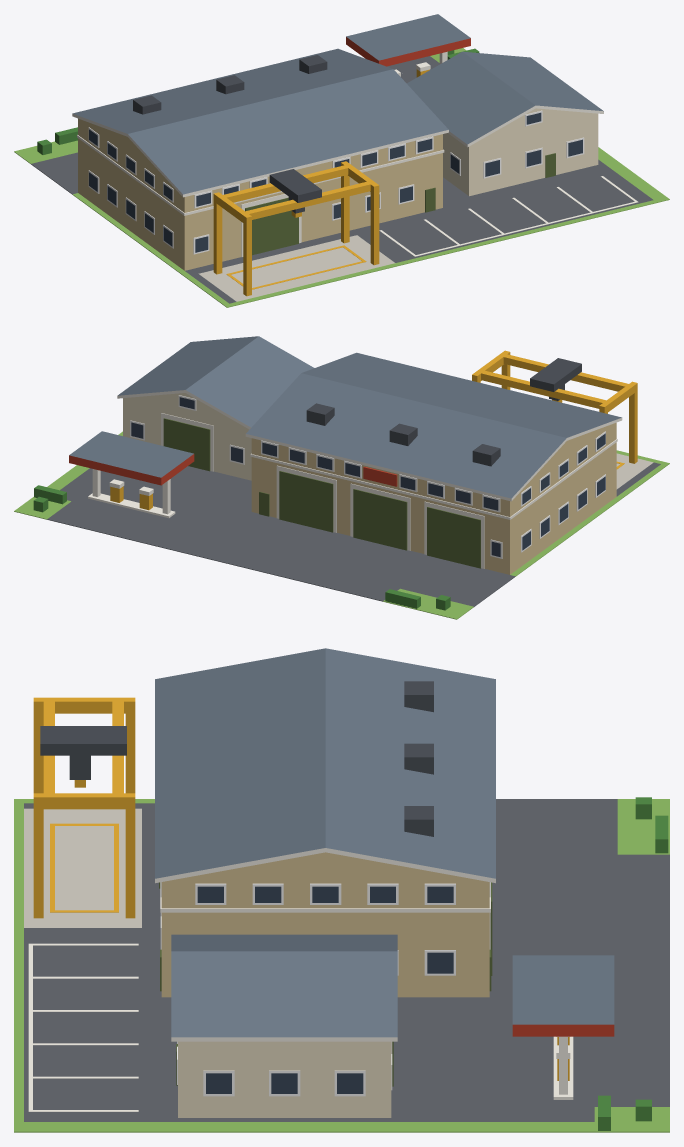
The model's file is vehicledepot.glb.
3 renders of one model, top to bottom at view 1: azimuth 30°, elevation 25°; view 2: azimuth 150°, elevation 25°; view 3: azimuth 270°, elevation 25°, orthographic. The views are drawn at different scales.
Parts seen in each view (by area): view 1: roof (×3), wall (×3), asphalt, paving, lawn, leg (×4), girder (×2), roof_trim (×2), garage_door, gable (×2), parking_lines, trolley (+4 smaller); view 2: roof (×3), asphalt, wall (×3), garage_door (×4), lawn, door_surround (×4), girder (×2), roof_trim (×2), gable (×2), vent (×3), band, trolley (+7 smaller); view 3: roof (×3), asphalt, wall (×3), lawn, paving, gable, leg (×4), beam (×2), roof_trim (×2), trolley, vent (×3), parking_lines (+4 smaller).
Boxes of the visible parts, x1,y1,x2,y2 form: roof (×3): (72, 14, 603, 194); wall (×3): (78, 113, 598, 270); asphalt: (31, 56, 653, 303); paving: (198, 235, 395, 301); lawn: (14, 48, 669, 307); leg (×4): (213, 175, 379, 296); girder (×2): (223, 165, 370, 219); roof_trim (×2): (72, 105, 603, 197); garage_door: (245, 197, 298, 255); gable (×2): (85, 108, 592, 183); parking_lines: (379, 176, 638, 256); trolley: (269, 169, 321, 202); roof (×3): (69, 336, 621, 498); asphalt: (47, 462, 660, 606); wall (×3): (123, 398, 616, 574); garage_door (×4): (163, 418, 480, 568); lawn: (14, 431, 669, 619); door_surround (×4): (161, 413, 484, 568); girder (×2): (481, 354, 628, 408); roof_trim (×2): (117, 390, 622, 501); gable (×2): (127, 393, 609, 487); vent (×3): (306, 403, 500, 466); band: (250, 439, 617, 519); trolley: (530, 358, 581, 391); roof (×3): (155, 648, 614, 1037); asphalt: (24, 799, 669, 1121); wall (×3): (161, 879, 489, 1117); lawn: (14, 799, 669, 1132); paving: (24, 808, 141, 927); gable: (178, 852, 472, 879); leg (×4): (33, 713, 135, 918); beam (×2): (33, 697, 135, 809); roof_trim (×2): (155, 848, 495, 1041); trolley: (40, 726, 126, 755); vent (×3): (404, 681, 433, 836); parking_lines: (28, 943, 138, 1111).
Bounding box in the file's own units: 48 × 10.3 × 40.
